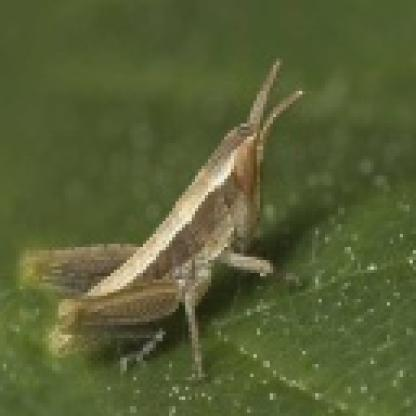grasshopper: (20, 54, 302, 360)
